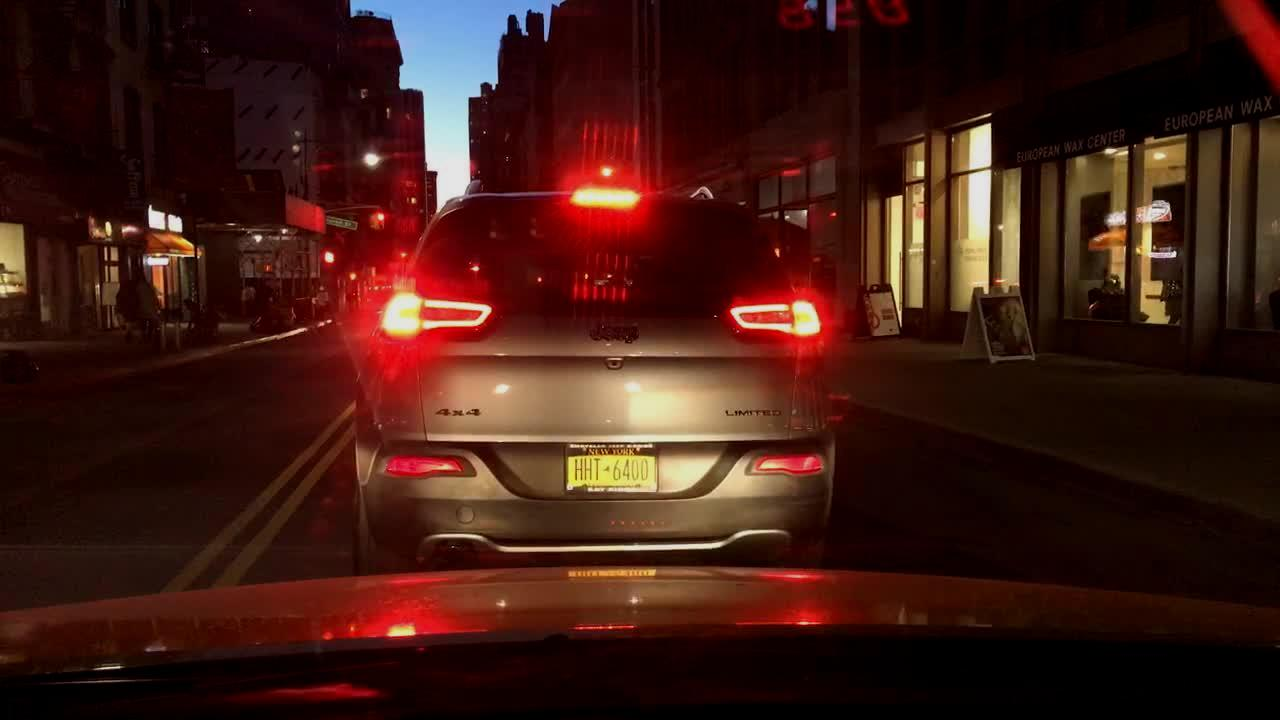jeep: (581, 314, 648, 351)
